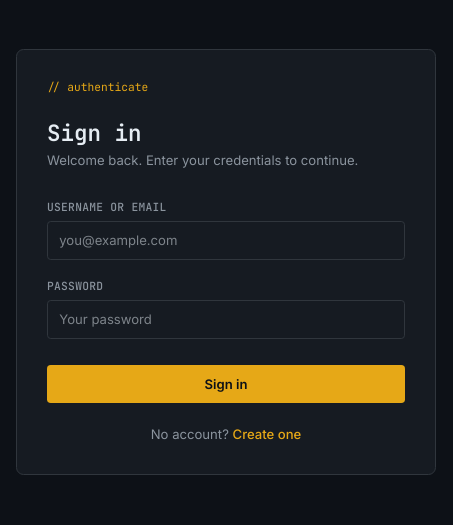
Test case: LoginView › displays server error message on API failure
Type "testuser" into the field with id "usernameOrEmail" at {"x": 226, "y": 240}, box [47, 221, 405, 260]
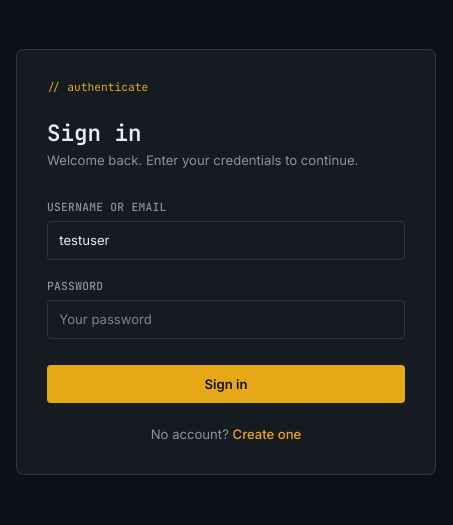
Type "wrong" into the password field labelled "Password" at {"x": 226, "y": 319}, box [47, 300, 405, 339]
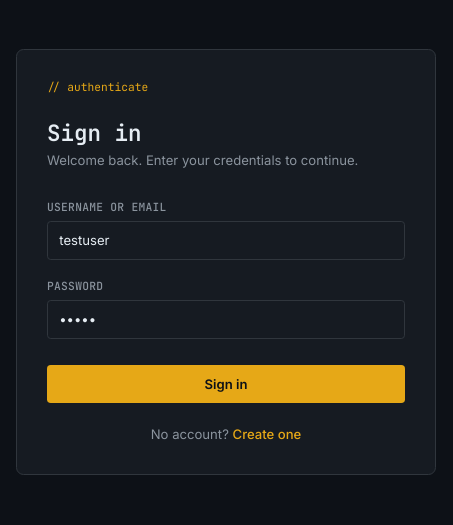
Submit the form, box [47, 200, 405, 403]
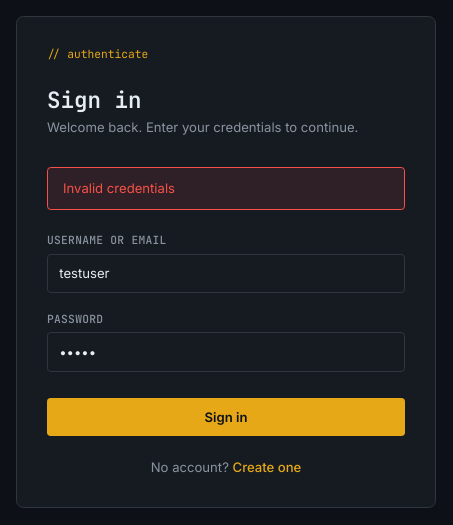
Check: the text "Invalid credentials" is shown, box [47, 167, 405, 210]
